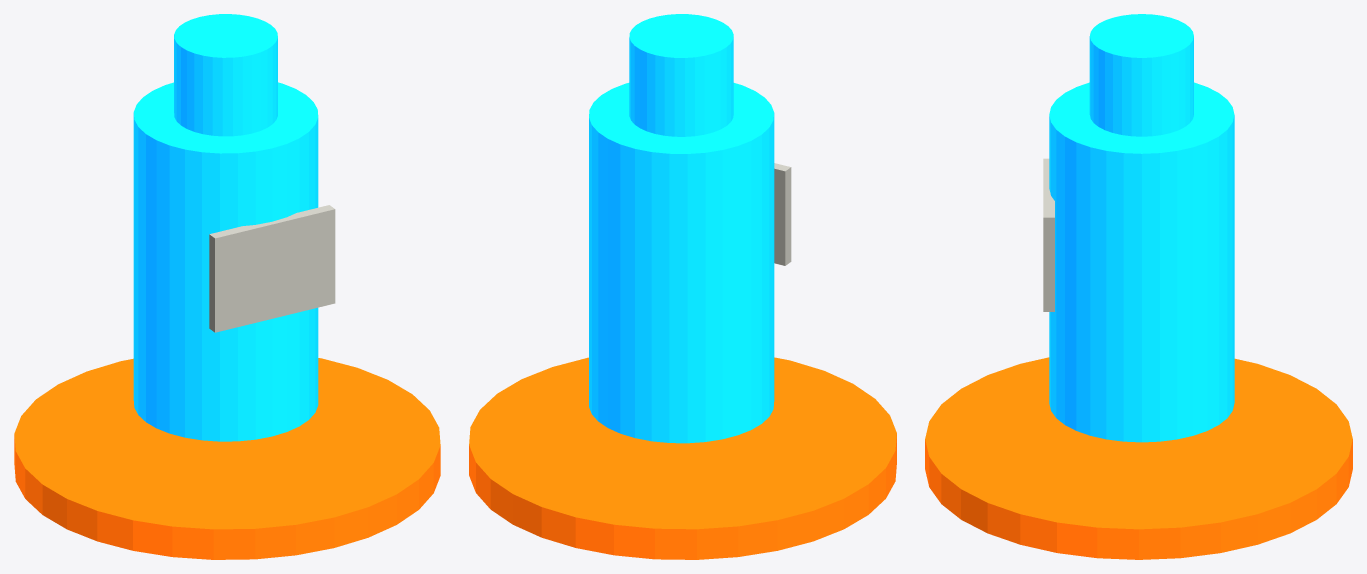
Rendered from fitness_water_bottle.dae.
3 views of the same model, side by side, from view 1: azimuth 30°, elevation 25°; view 2: azimuth 150°, elevation 25°; view 3: azimuth 270°, elevation 25° (orthographic).
Visible parts, largest first — view 1: 02_10_Popular_Fitness_Water_Bottle_ROOT_base, 02_10_Popular_Fitness_Water_Bottle_part_01, 02_10_Popular_Fitness_Water_Bottle_part_03, 02_10_Popular_Fitness_Water_Bottle_part_02; view 2: 02_10_Popular_Fitness_Water_Bottle_part_01, 02_10_Popular_Fitness_Water_Bottle_ROOT_base, 02_10_Popular_Fitness_Water_Bottle_part_02, 02_10_Popular_Fitness_Water_Bottle_part_03; view 3: 02_10_Popular_Fitness_Water_Bottle_part_01, 02_10_Popular_Fitness_Water_Bottle_ROOT_base, 02_10_Popular_Fitness_Water_Bottle_part_02, 02_10_Popular_Fitness_Water_Bottle_part_03.
Part boxes in pixels (x1=…): 02_10_Popular_Fitness_Water_Bottle_ROOT_base: x1=14, y1=358, x2=440, y2=559; 02_10_Popular_Fitness_Water_Bottle_part_01: x1=133, y1=82, x2=318, y2=441; 02_10_Popular_Fitness_Water_Bottle_part_03: x1=209, y1=205, x2=335, y2=332; 02_10_Popular_Fitness_Water_Bottle_part_02: x1=174, y1=14, x2=277, y2=136; 02_10_Popular_Fitness_Water_Bottle_part_01: x1=589, y1=83, x2=774, y2=443; 02_10_Popular_Fitness_Water_Bottle_ROOT_base: x1=469, y1=357, x2=896, y2=559; 02_10_Popular_Fitness_Water_Bottle_part_02: x1=629, y1=14, x2=733, y2=136; 02_10_Popular_Fitness_Water_Bottle_part_03: x1=774, y1=163, x2=791, y2=265; 02_10_Popular_Fitness_Water_Bottle_part_01: x1=1049, y1=82, x2=1234, y2=442; 02_10_Popular_Fitness_Water_Bottle_ROOT_base: x1=925, y1=357, x2=1352, y2=559; 02_10_Popular_Fitness_Water_Bottle_part_02: x1=1089, y1=14, x2=1193, y2=136; 02_10_Popular_Fitness_Water_Bottle_part_03: x1=1043, y1=158, x2=1054, y2=311.
Bounding box in the file's own units: 0.76 × 0.85 × 0.76.
